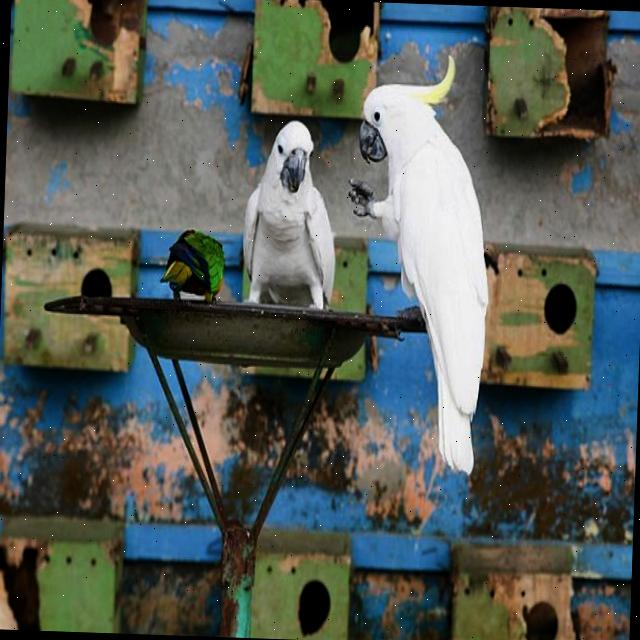Kakatua Putih: (337, 48, 513, 480), (224, 99, 350, 344)
